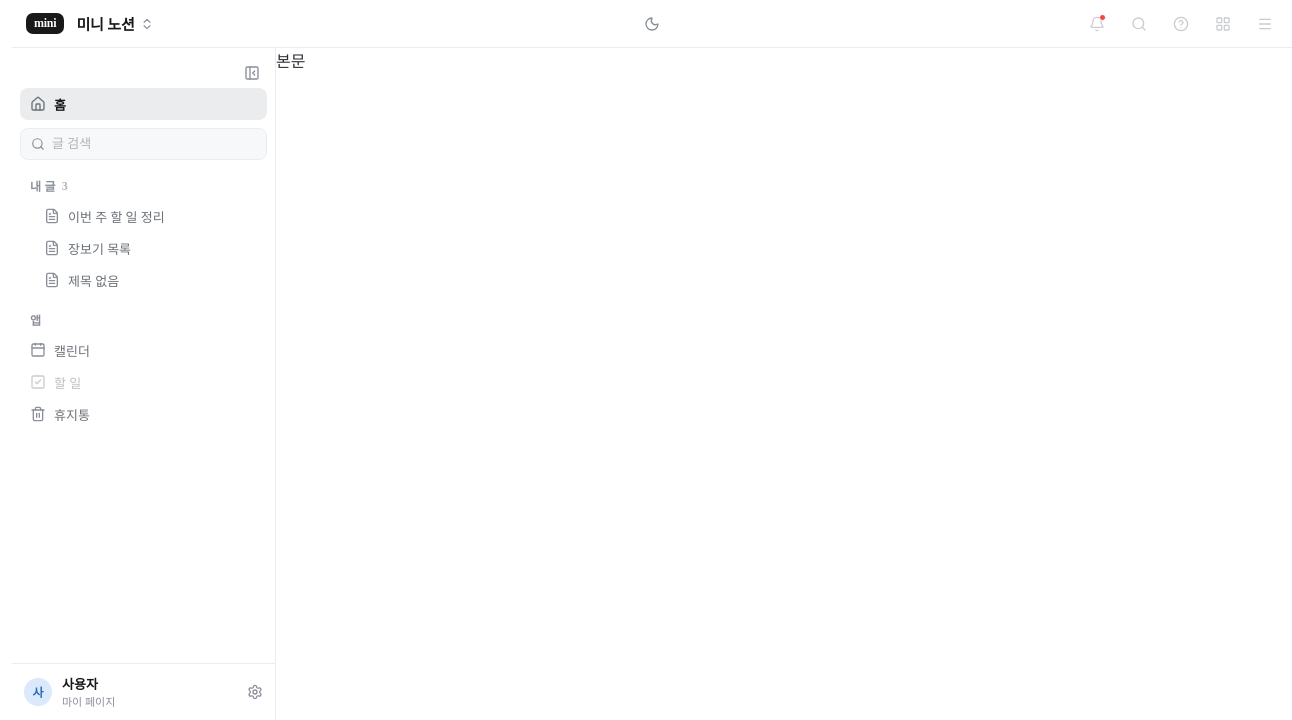
it: 매치가 없으면 '검색 결과가 없어요.'를 표시한다
In the field with placeholder "글 검색": coordinates (154, 144) [52, 136, 256, 152], type "없는 검색어"
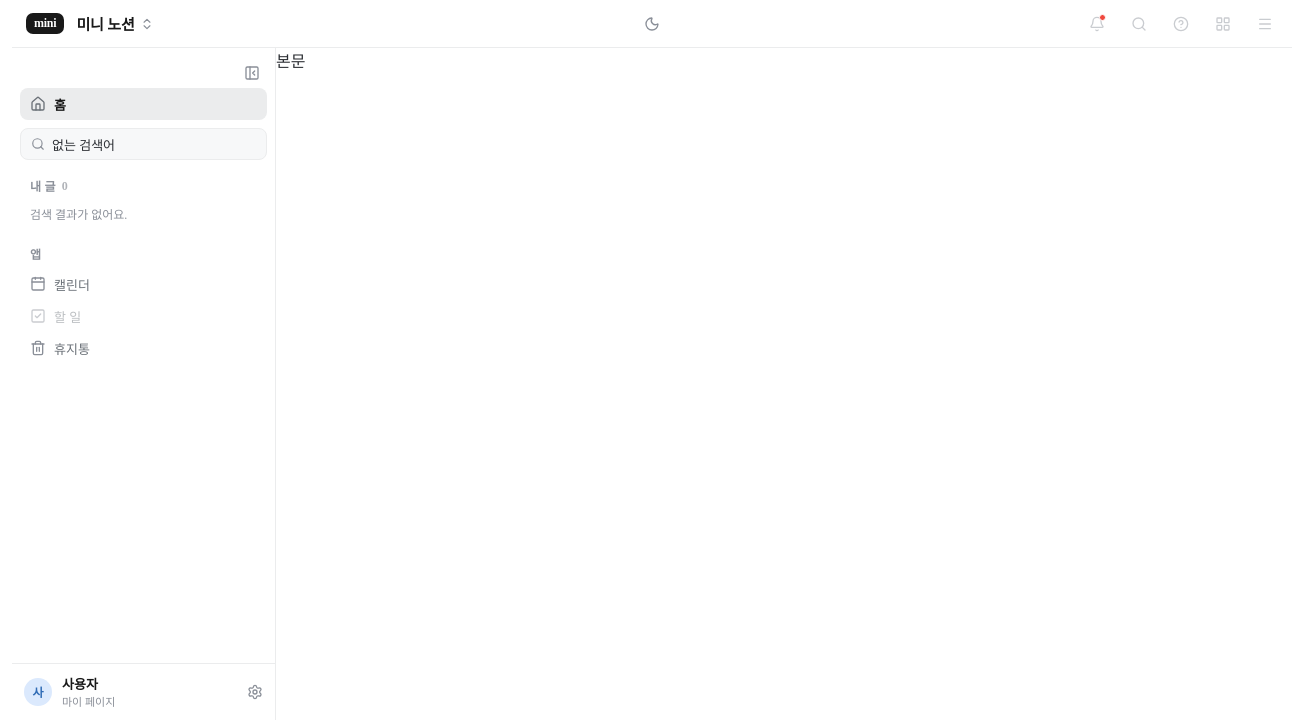
Check: the text "검색 결과가 없어요." is shown, box [30, 208, 127, 222]
